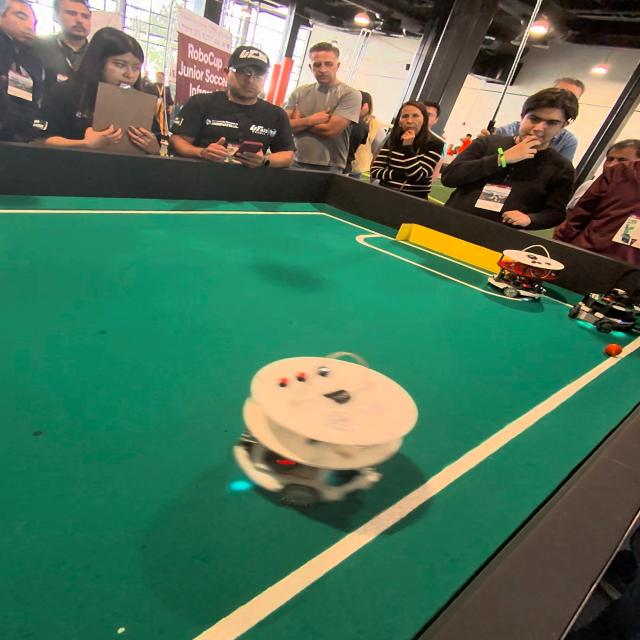Robot: (235, 343, 416, 526), (566, 268, 638, 338), (486, 247, 547, 309)
pelota: (602, 340, 625, 357)
